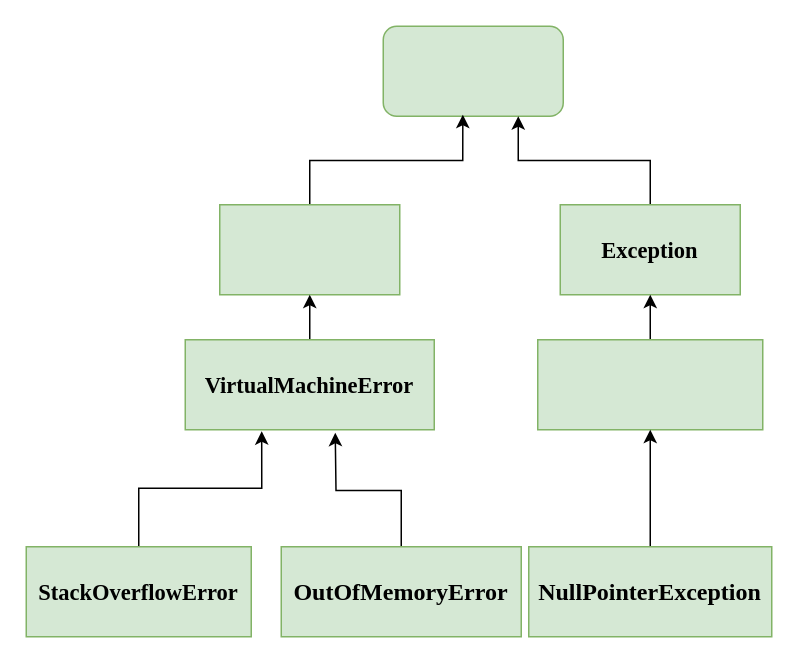
Some shapes in this 798 by 663 pixel diagram are drawn without their labels. Each missing label, with the centre of its shape:
Error: the point at 309,249
RuntimeException: the point at 649,384
Throwable: the point at 472,70
